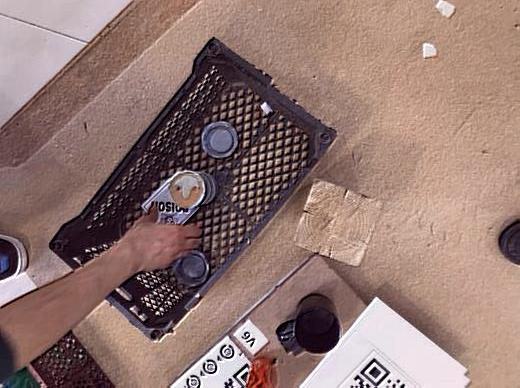poison: (139, 178, 199, 234)
